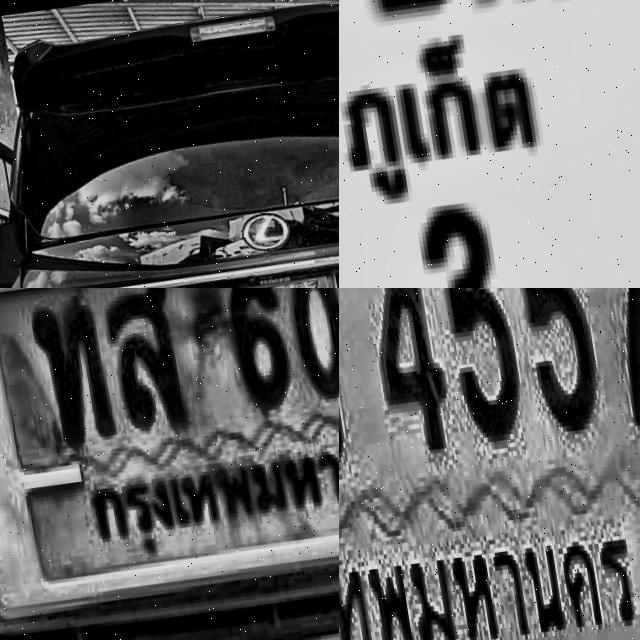license-plate: (0, 288, 339, 633), (339, 288, 640, 640), (339, 0, 640, 288), (213, 262, 339, 288)
